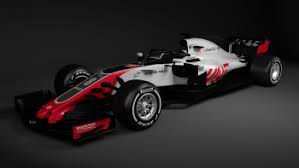FormulaOneCar: (9, 30, 286, 149)
